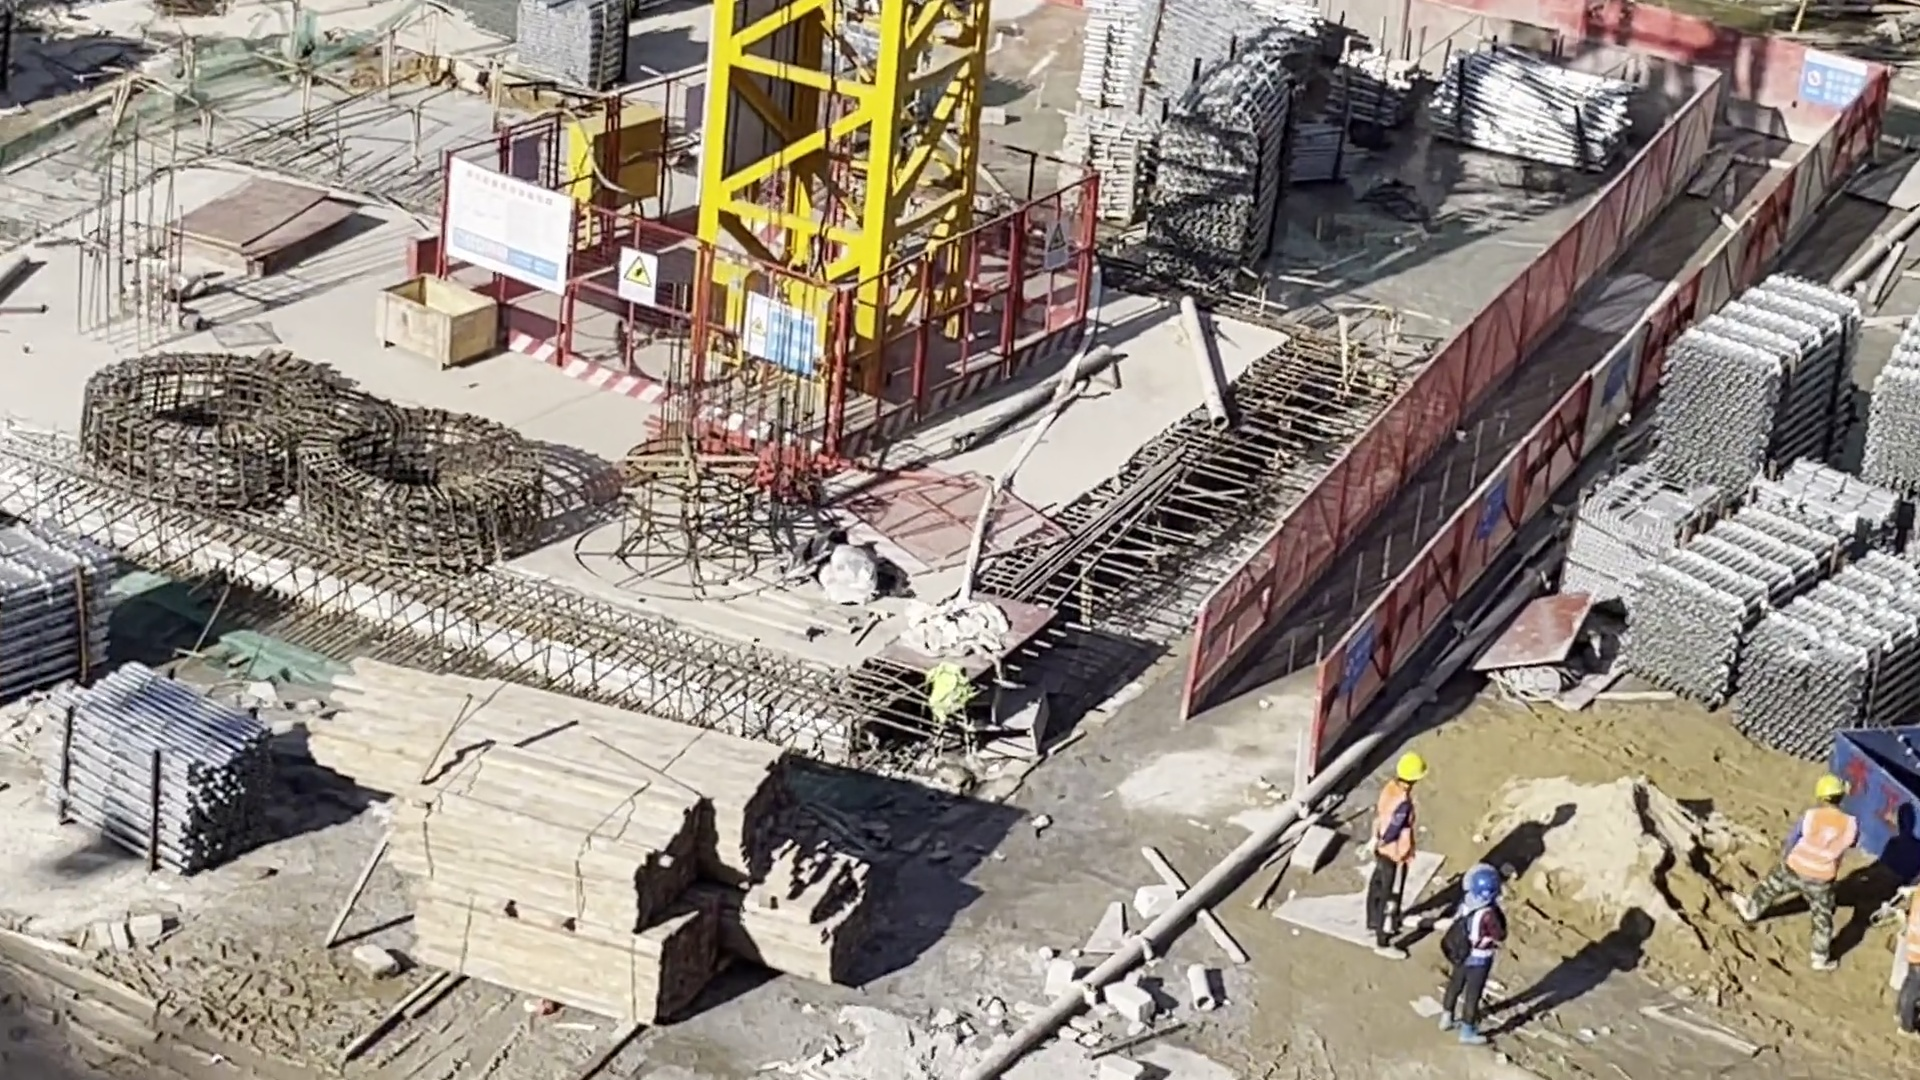board: (161, 189, 370, 277)
fence: (1177, 51, 1889, 724)
helmet: (1814, 766, 1851, 808), (1465, 873, 1501, 903), (1386, 751, 1421, 778)
person: (1770, 758, 1864, 971), (1351, 750, 1425, 973), (1444, 871, 1511, 1057)
scaffold: (1583, 266, 1920, 683), (1103, 11, 1573, 221), (35, 670, 269, 837), (1, 527, 114, 665)
slogan: (1806, 59, 1863, 107)
vest: (1796, 795, 1852, 881), (1373, 781, 1410, 858)
wood: (398, 683, 883, 994)
